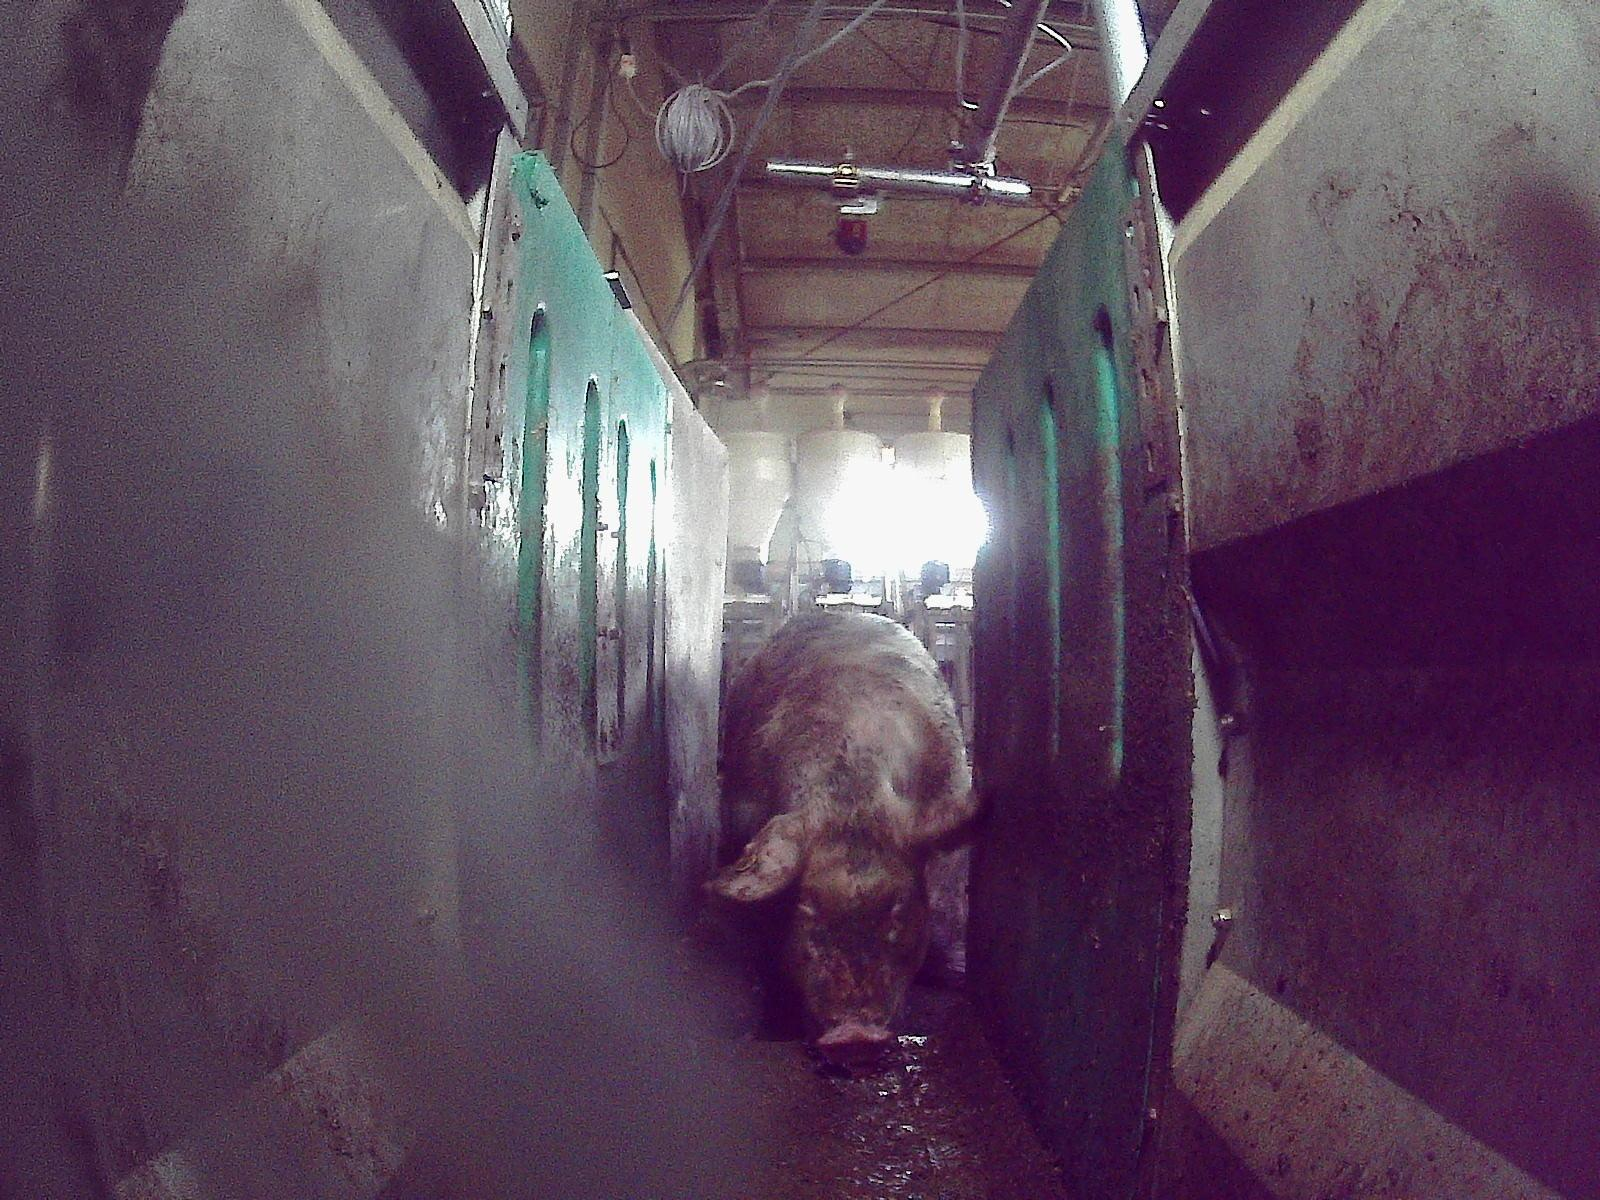Face: (753, 788, 939, 1066)
